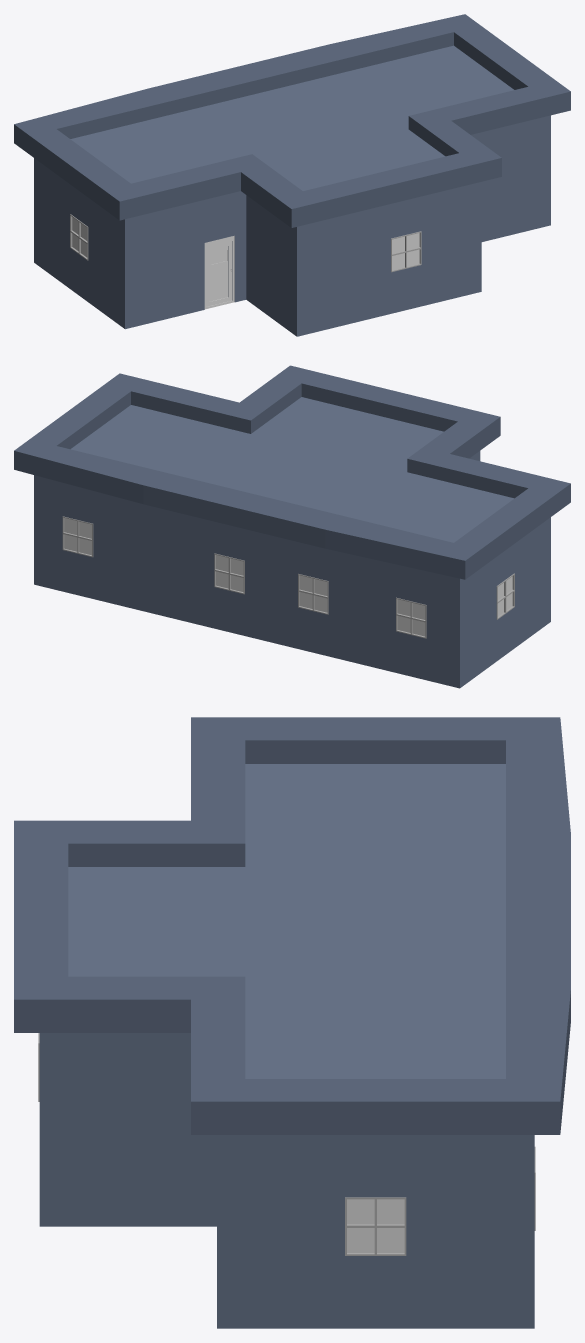
Rendered from House_19.fbx.
The picture shows the model from 3 angles, top to bottom: view 1: azimuth 30°, elevation 25°; view 2: azimuth 150°, elevation 25°; view 3: azimuth 270°, elevation 25°; orthographic projection. The views are drawn at different scales.
Parts seen in each view (by area): view 1: House_19_Body; view 2: House_19_Body; view 3: House_19_Body.
Boxes of the visible parts, bbox=[...] form: House_19_Body: bbox=[14, 14, 570, 336]; House_19_Body: bbox=[14, 365, 570, 688]; House_19_Body: bbox=[14, 717, 570, 1328].
Size of the model in its own units: 1852 by 534 by 1133.
